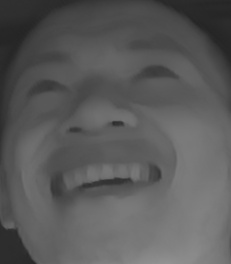eye: (132, 56, 180, 89), (23, 74, 70, 105)
mouth: (42, 147, 164, 209)
